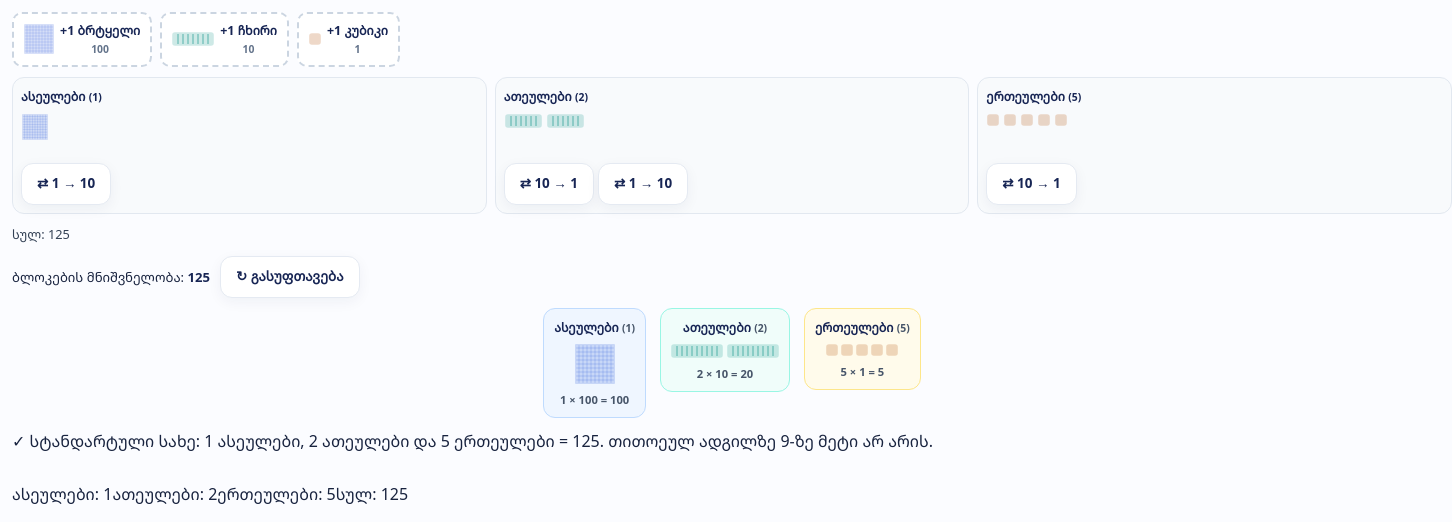
Test: tools: the block lab counts what it is given › adds blocks and reports the value they are worth
Click the button with aria-label "დაამატე 1 ბრტყელი" at (82, 39), box [12,12,152,67]
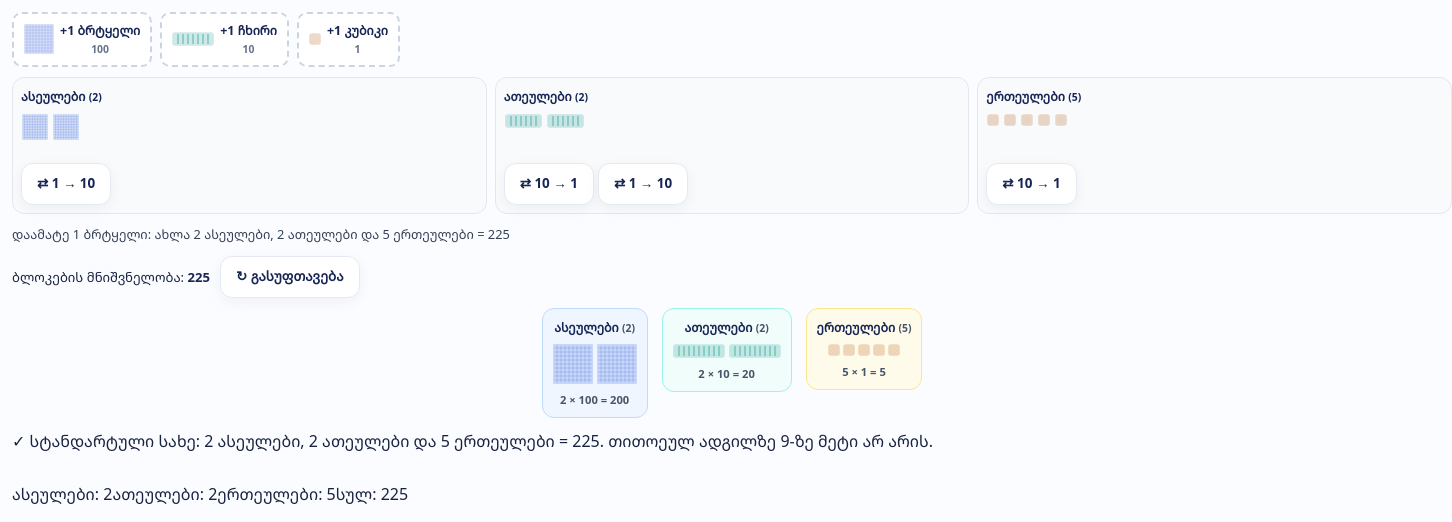
Now the message with class "lab-status" shows "225", box [12,430,933,452]
Now the element with class "lab-facts" shows "სულ: 225", box [12,483,408,505]
